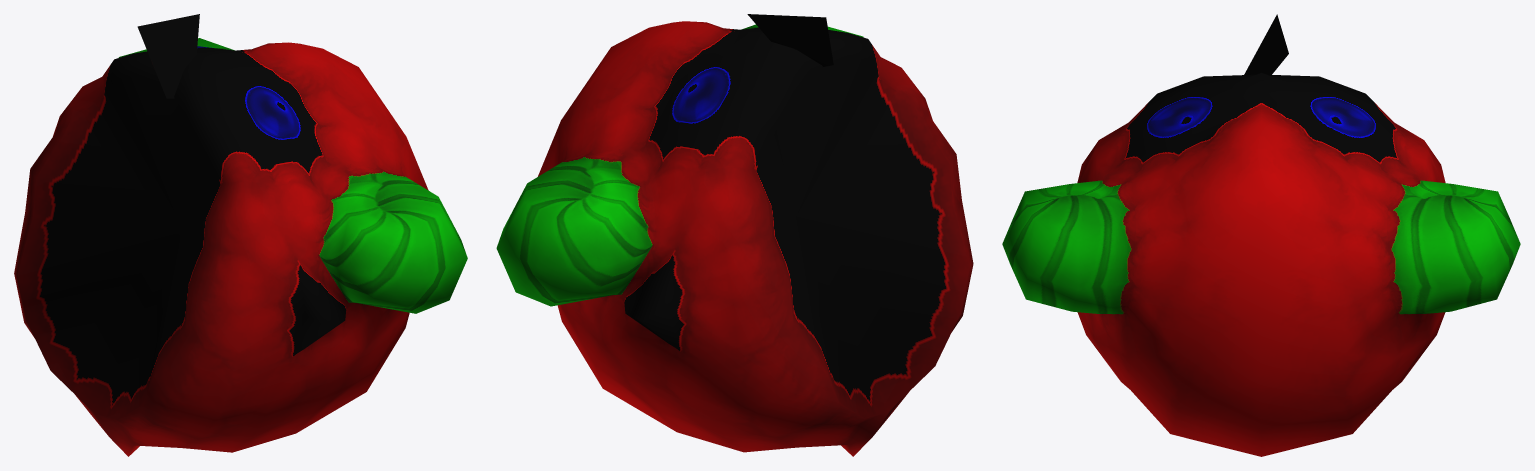
3 views of the same model, side by side, from view 1: azimuth 30°, elevation 25°; view 2: azimuth 150°, elevation 25°; view 3: azimuth 270°, elevation 25° (orthographic). The views are drawn at different scales.
Visible parts, largest first — view 1: M1181; view 2: M1181; view 3: M1181.
Boxes of the visible parts, <box> form: M1181: <box>14,14,467,456</box>; M1181: <box>496,14,973,456</box>; M1181: <box>1002,14,1520,456</box>.
Size of the model in its own units: 0.5677 by 0.7237 by 0.8663.
